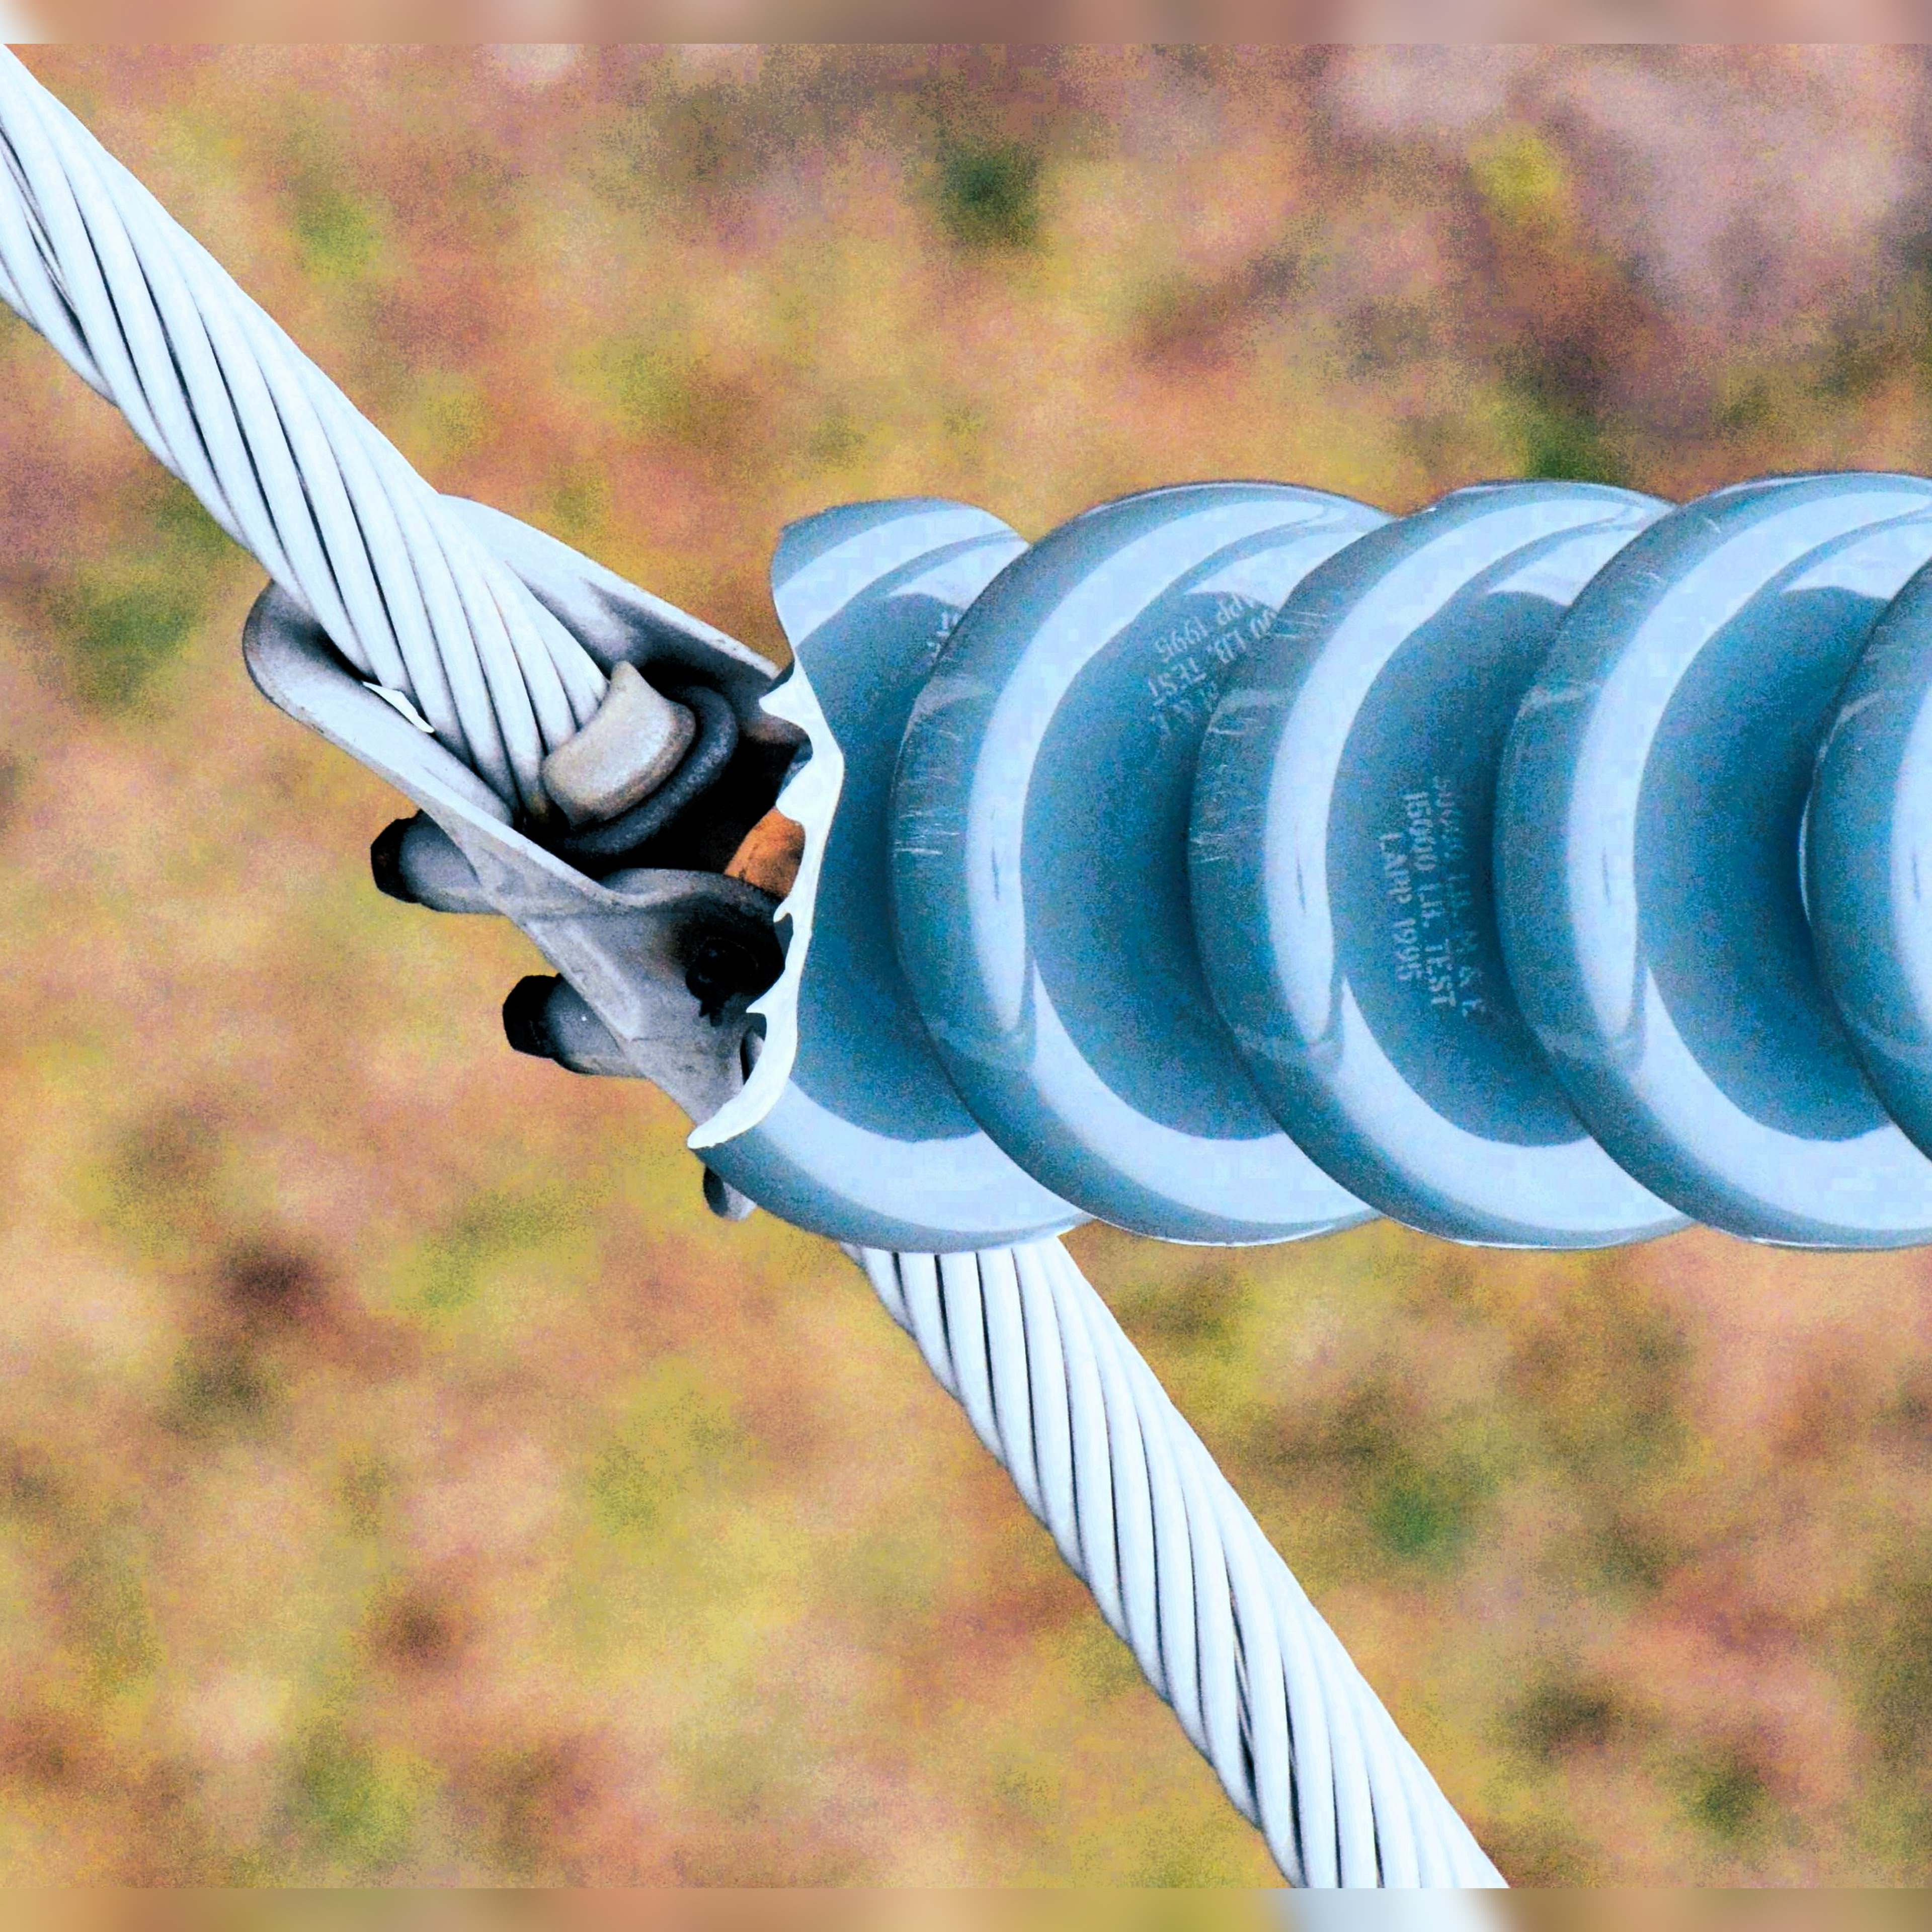insulator breakage: (669, 483, 1081, 1263)
